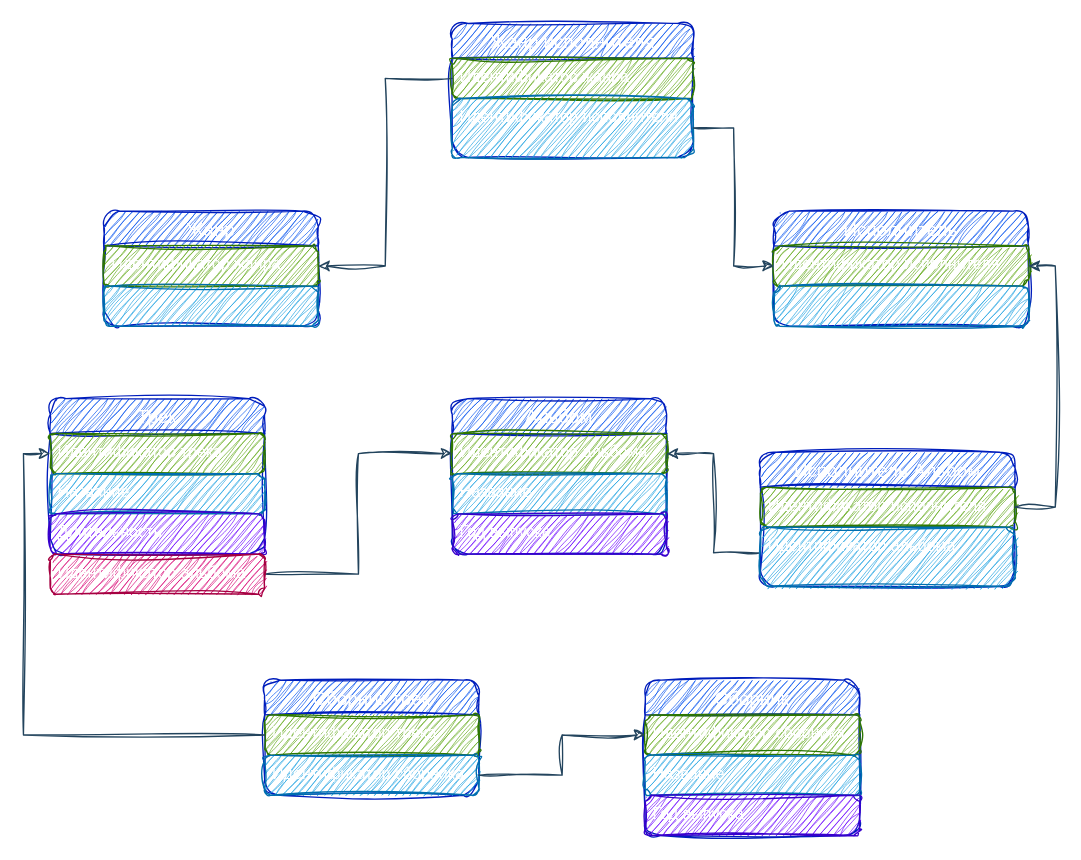
The diagram is 1081 pixels wide and 860 high, and some of its shapes have lost their labels. Each missing label, with the centre of its shape:
"Имя (Псевдоним)" goes at (x=900, y=305).
"Название жанра" goes at (x=210, y=305).
